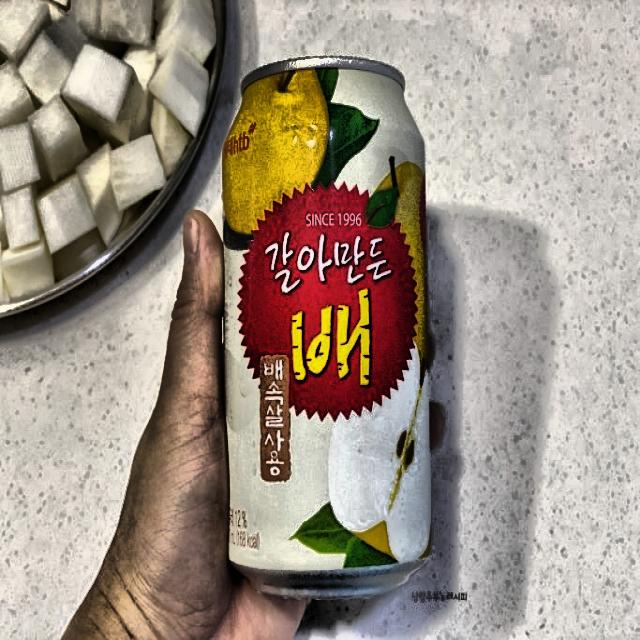galamandeunbae: (221, 52, 433, 587)
